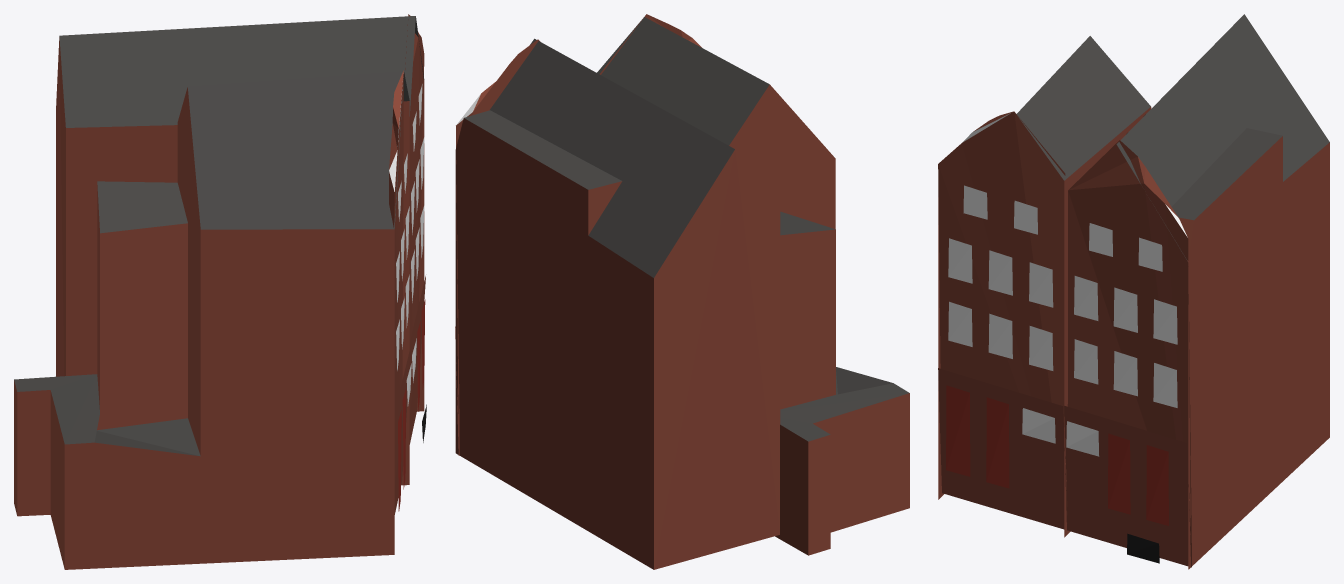
Rendered from red-light-secrets.lod2.glb.
3 renders of one model, left to right at view 1: azimuth 30°, elevation 25°; view 2: azimuth 150°, elevation 25°; view 3: azimuth 270°, elevation 25°, orthographic. The views are drawn at different scales.
Visible parts, largest first — view 1: lod2; view 2: lod2; view 3: lod2.
Part boxes in pixels (x1,y1,x2,y2): lod2: [14, 14, 426, 569]; lod2: [455, 14, 909, 569]; lod2: [938, 14, 1329, 569].
Bounding box in the file's own units: 16.73 × 16.54 × 14.27.
